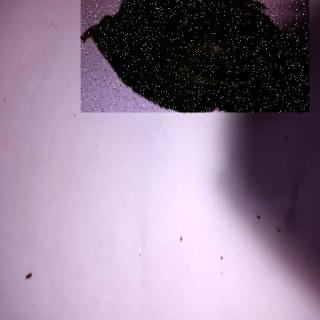Bird Eye Spot: (81, 1, 310, 113)
